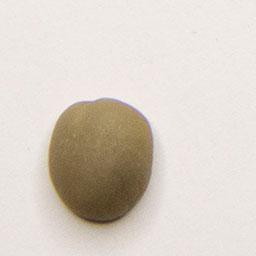premium: (45, 93, 157, 227)
